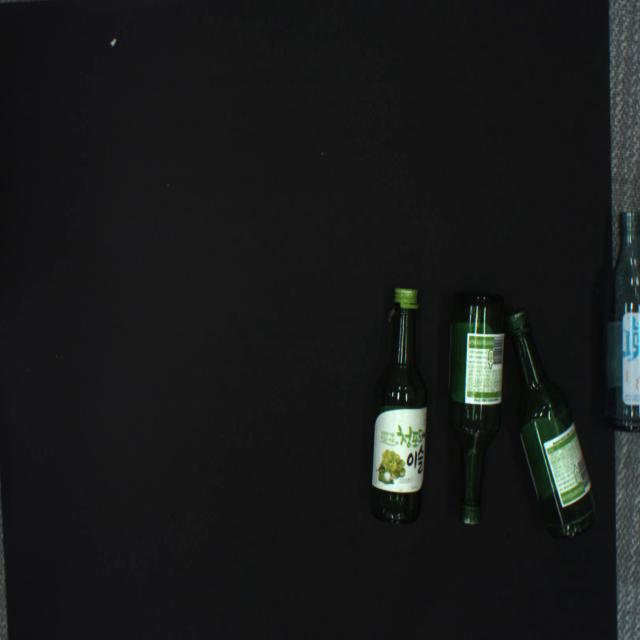soju-bottle: (504, 309, 597, 538), (369, 287, 427, 525), (448, 292, 505, 526), (600, 211, 640, 432)
